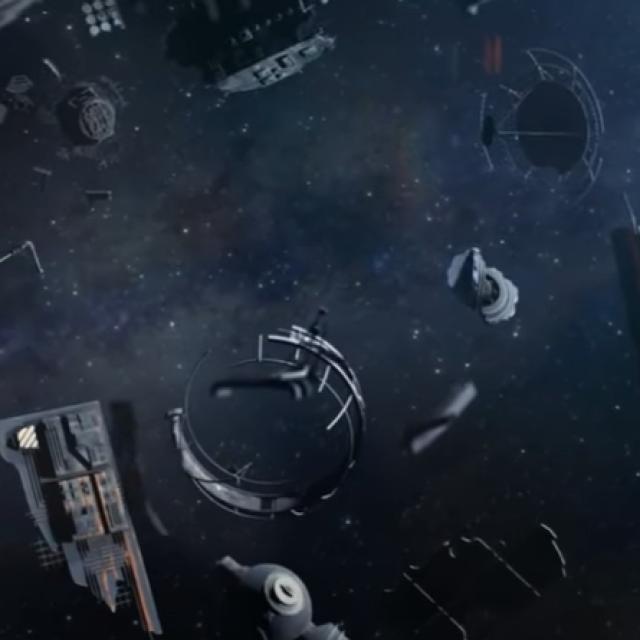large_debris: (161, 305, 377, 521), (0, 389, 170, 640), (462, 34, 617, 205), (387, 511, 579, 640), (148, 0, 354, 107), (22, 47, 144, 159), (213, 548, 353, 640), (397, 371, 485, 469), (441, 237, 528, 336), (2, 228, 50, 286), (71, 1, 129, 45), (71, 173, 129, 213)
